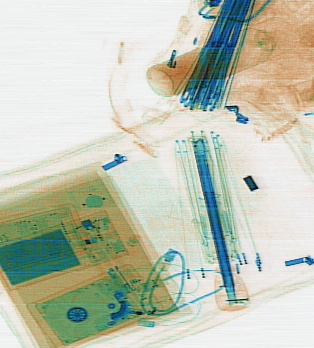pressure: (141, 16, 298, 98)
